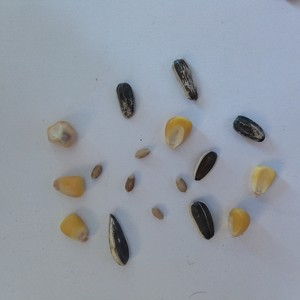girasol: (106, 211, 131, 270), (170, 55, 200, 104), (188, 199, 217, 244), (230, 113, 268, 147), (112, 81, 137, 121), (191, 148, 218, 183)
maiz: (57, 210, 93, 245), (42, 120, 82, 151), (224, 200, 254, 241), (162, 114, 193, 153), (50, 173, 88, 201), (249, 165, 277, 203)
trigo: (149, 203, 169, 224), (122, 172, 138, 193), (90, 163, 105, 183), (132, 145, 150, 161), (173, 176, 189, 194)
